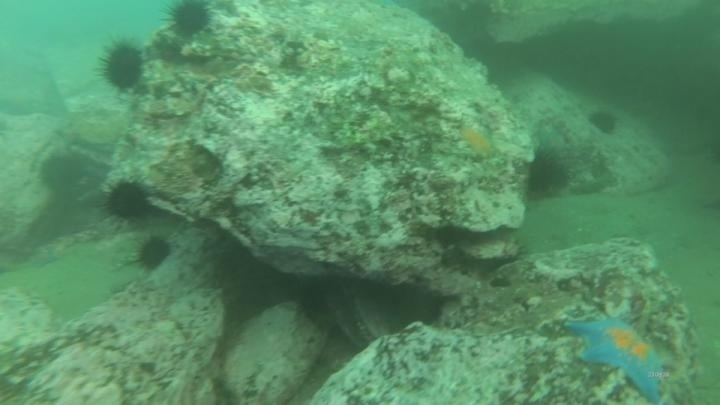echinus: (96, 38, 147, 94), (522, 146, 572, 202), (37, 149, 89, 195), (102, 178, 153, 223), (162, 1, 215, 40), (293, 281, 334, 322), (133, 233, 174, 273), (587, 107, 620, 136)
starfish: (563, 307, 671, 403), (455, 120, 499, 160), (532, 120, 571, 156), (26, 243, 61, 270)
